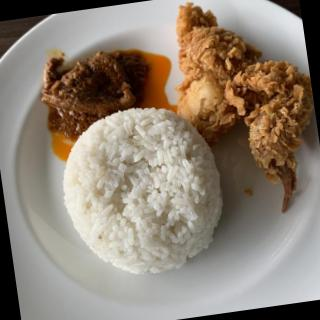Nasi: (52, 98, 232, 284)
